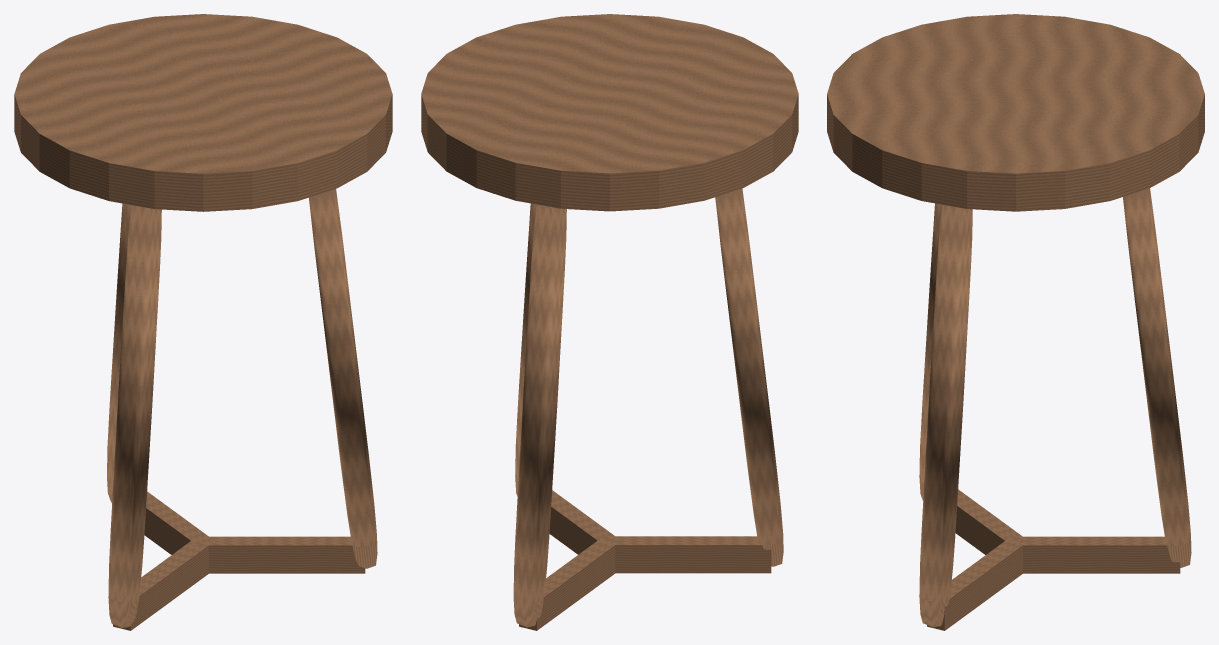
3 renders of one model, left to right at view 1: azimuth 30°, elevation 25°; view 2: azimuth 150°, elevation 25°; view 3: azimuth 270°, elevation 25°, orthographic.
Parts seen in each view (by area): view 1: 1 tabletop, 4 front_left_leg, 3 front_right_leg, 6 front_right_base_stretcher, 7 front_left_base_stretcher, 2 back_leg, 5 back_base_stretcher; view 2: 1 tabletop, 2 back_leg, 4 front_left_leg, 7 front_left_base_stretcher, 5 back_base_stretcher, 6 front_right_base_stretcher, 3 front_right_leg; view 3: 1 tabletop, 3 front_right_leg, 2 back_leg, 5 back_base_stretcher, 6 front_right_base_stretcher, 7 front_left_base_stretcher, 4 front_left_leg.
Boxes of the visible parts, x1,y1,x2,y2 form: 1 tabletop: (14,14,392,211); 4 front_left_leg: (108,205,161,627); 3 front_right_leg: (309,189,377,568); 6 front_right_base_stretcher: (192,536,365,573); 7 front_left_base_stretcher: (113,538,216,630); 2 back_leg: (107,203,131,503); 5 back_base_stretcher: (144,491,215,554); 1 tabletop: (421,14,798,211); 2 back_leg: (513,204,566,627); 4 front_left_leg: (715,188,783,566); 7 front_left_base_stretcher: (599,536,771,573); 5 back_base_stretcher: (519,535,622,630); 6 front_right_base_stretcher: (549,490,622,554); 3 front_right_leg: (515,203,536,496); 1 tabletop: (827,14,1204,211); 3 front_right_leg: (919,204,972,627); 2 back_leg: (1123,188,1191,567); 5 back_base_stretcher: (1007,536,1180,573); 6 front_right_base_stretcher: (927,535,1030,630); 7 front_left_base_stretcher: (955,489,1026,554); 4 front_left_leg: (919,203,941,500).
Bounding box in the file's own units: 0.72 × 1 × 0.72.
Materials: 1 (1 with a texture image).
